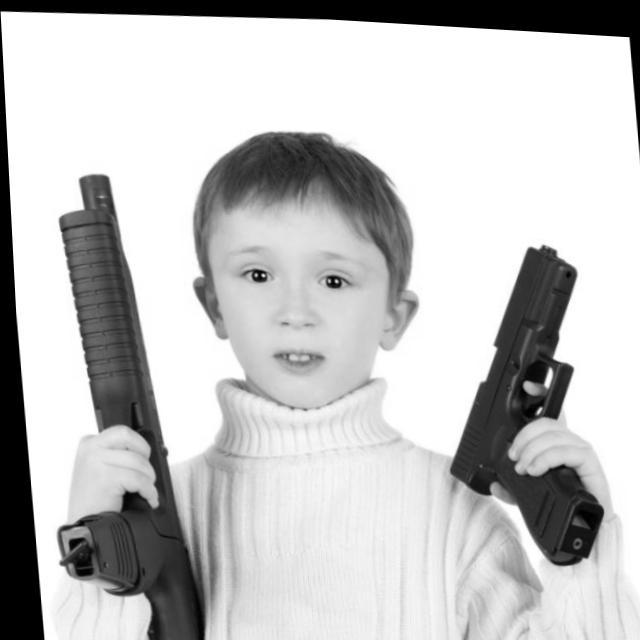weapon: (22, 166, 196, 640), (426, 230, 604, 566)
